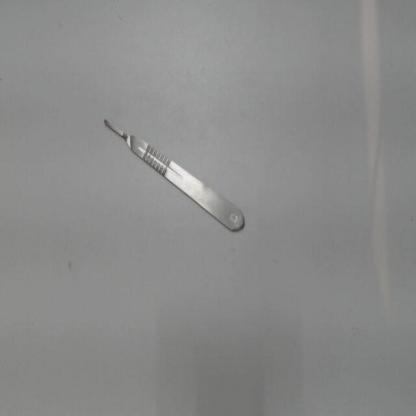No.3 BP Handle: (92, 103, 258, 245)
